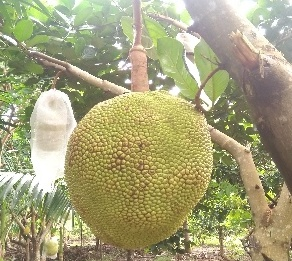Mit: (63, 92, 215, 248)
